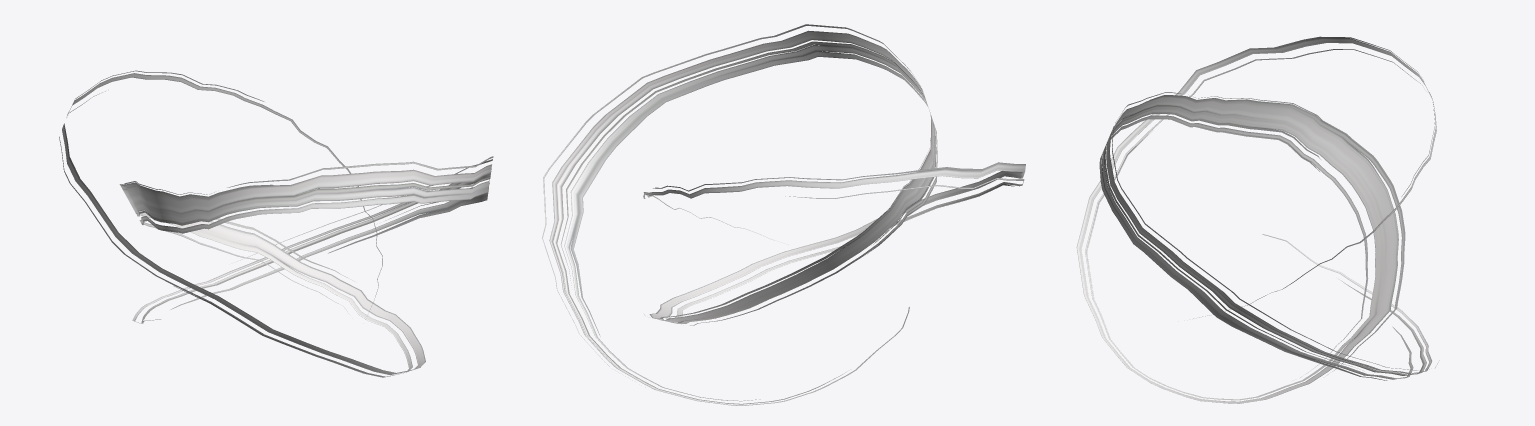
File: Torus Knot_002.FBX
The picture shows the model from 3 angles, left to right: view 1: azimuth 30°, elevation 25°; view 2: azimuth 150°, elevation 25°; view 3: azimuth 270°, elevation 25°; orthographic projection. The views are drawn at different scales.
Parts seen in each view (by area): view 1: Torus Knot_001; view 2: Torus Knot_001; view 3: Torus Knot_001.
Boxes of the visible parts, x1,y1,x2,y2 form: Torus Knot_001: (59,70,493,377); Torus Knot_001: (542,24,1025,405); Torus Knot_001: (1076,36,1439,403).
Bounding box in the file's own units: 163 × 101 × 158.
